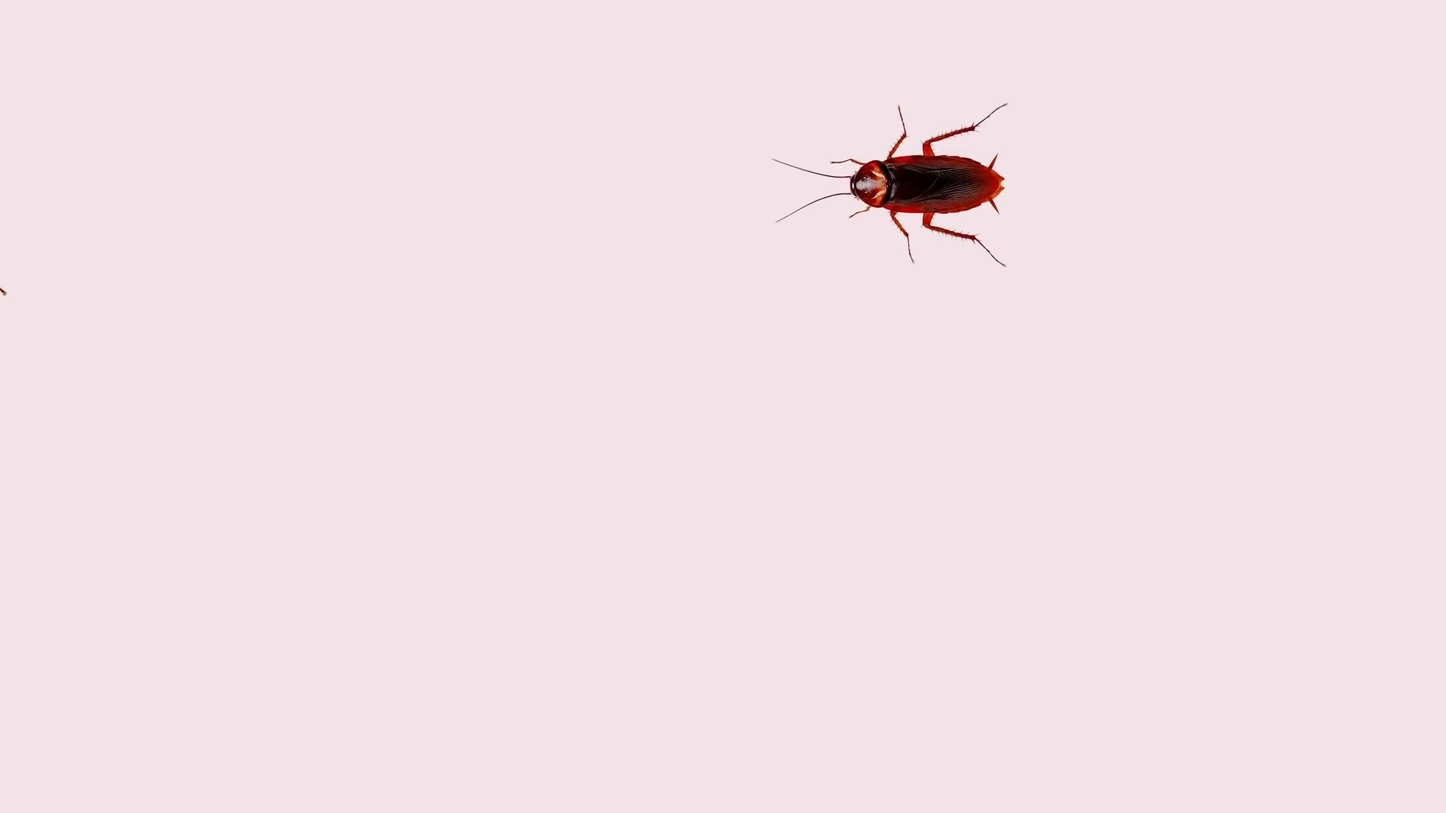cockroach: (741, 101, 1013, 271)
